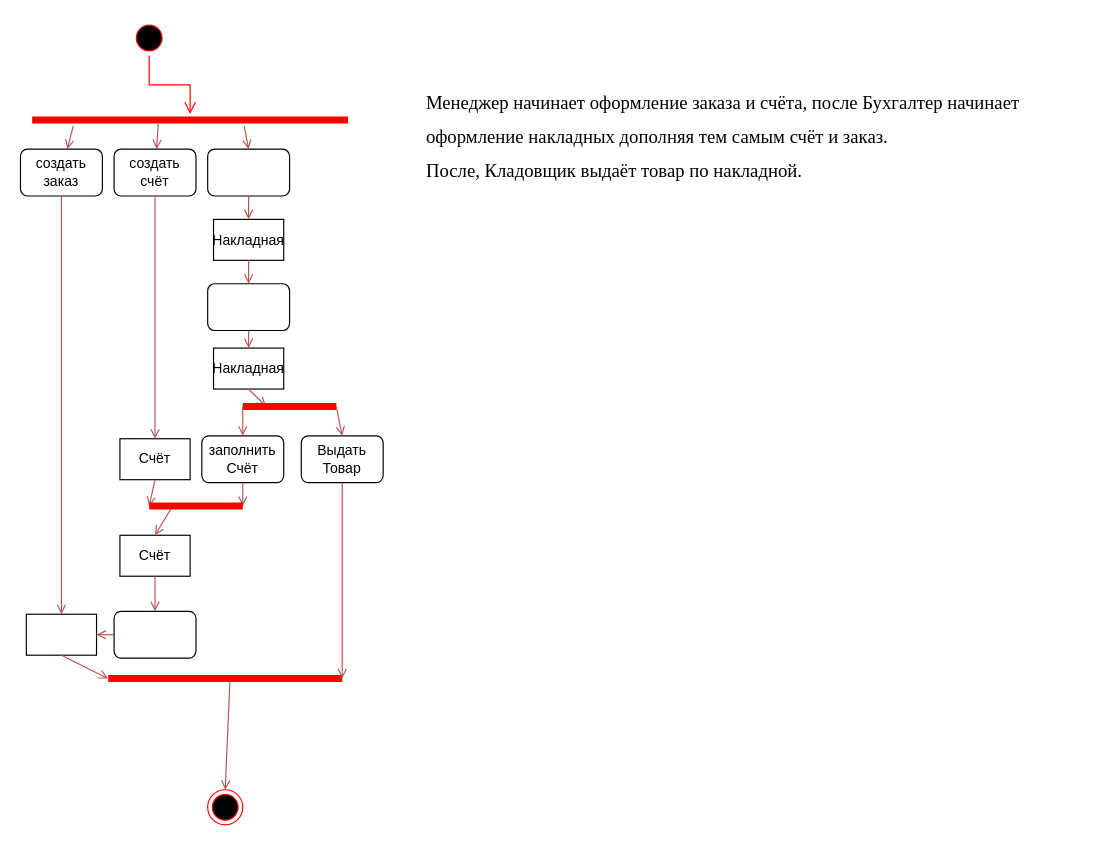
The diagram is 1100 pixels wide and 846 high, and some of its shapes have lost their labels. The shapes that lost their labels are listed below. From the top down, each one's box as (x1, y1, x2, y2) in pixels, then its label:
(207, 148, 290, 196): Создать накладную
(207, 283, 290, 331): заполнить накладную
(25, 613, 97, 655): Заказ
(113, 610, 196, 658): заполнить Зказ
